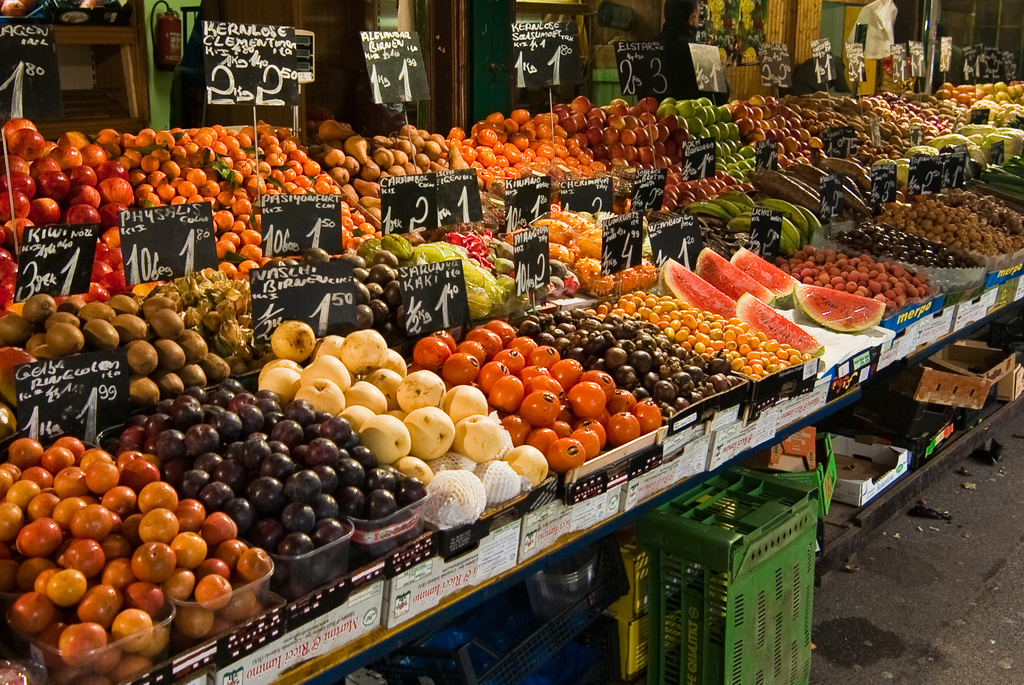Person: (650, 0, 731, 101)
